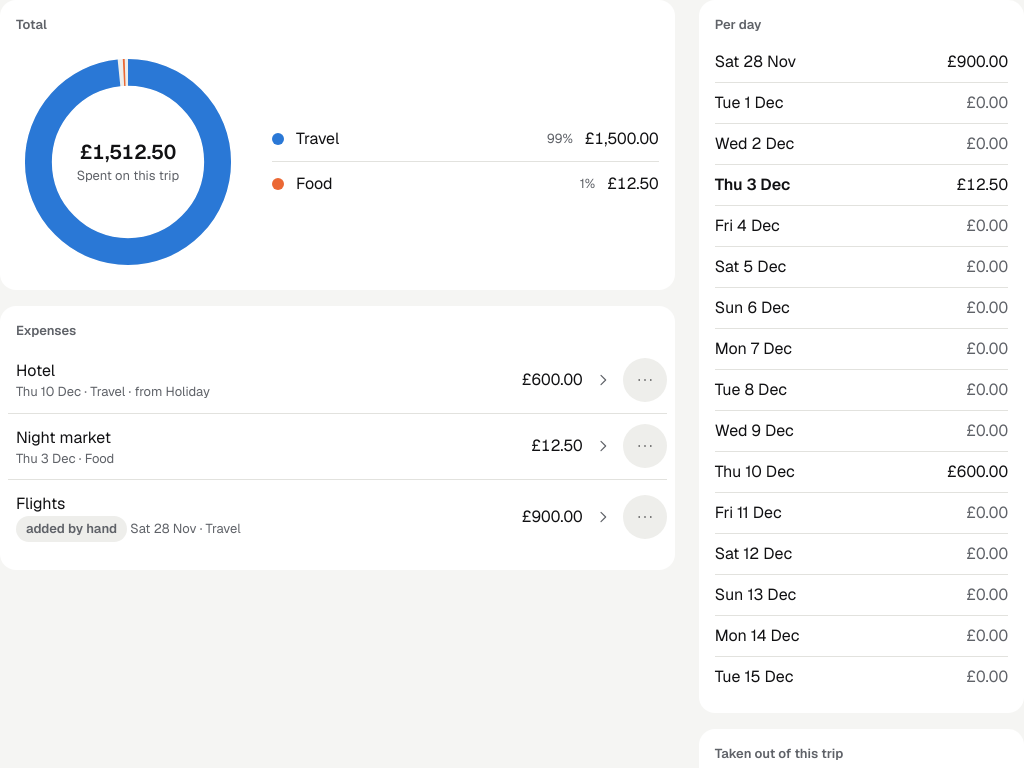
it: TripSummary › shows an error when a change fails
Click the button named "Trip options for Night market".
click(645, 446)  # box x1=623 y1=424 x2=667 y2=468
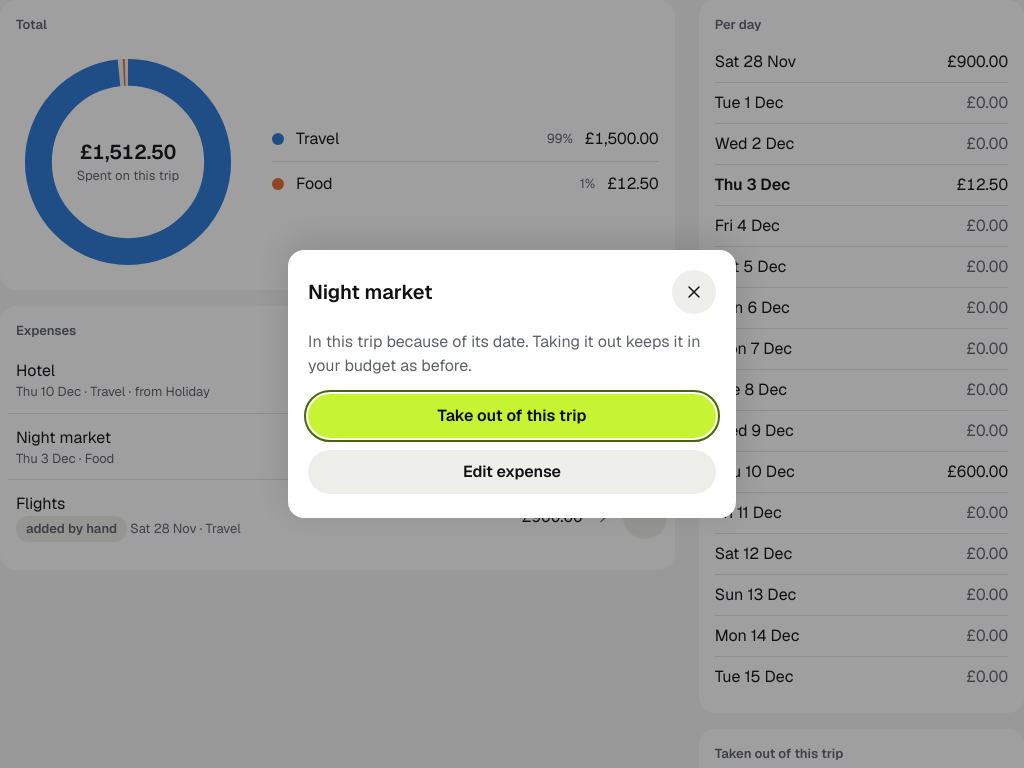
Click the button "Take out of this trip".
click(512, 416)  # box x1=308 y1=394 x2=716 y2=438
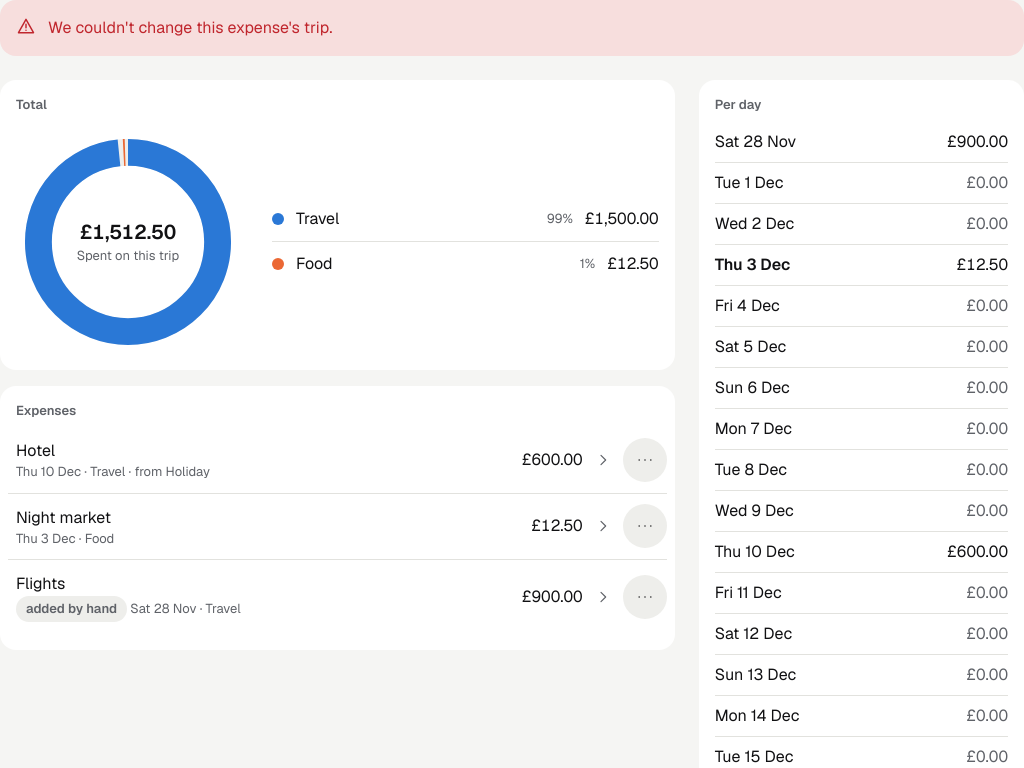
Expected: the message reads "We couldn't change this expense's trip.", x1=48 y1=17 x2=332 y2=38
